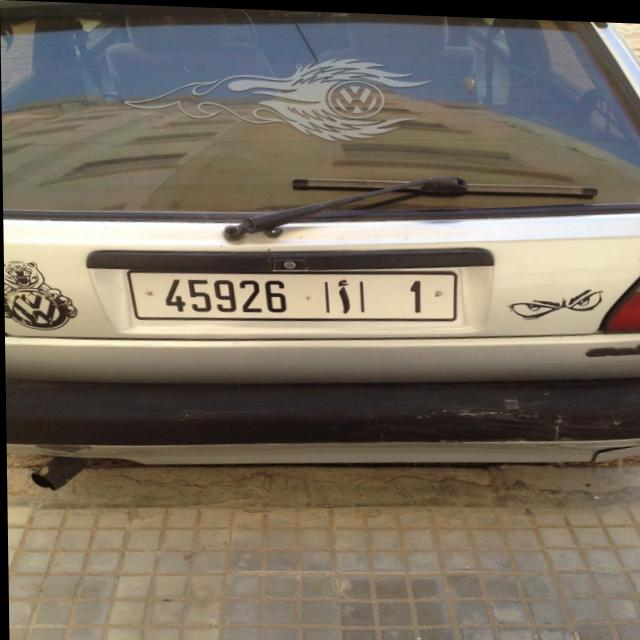License-Plate: (126, 269, 455, 319)
